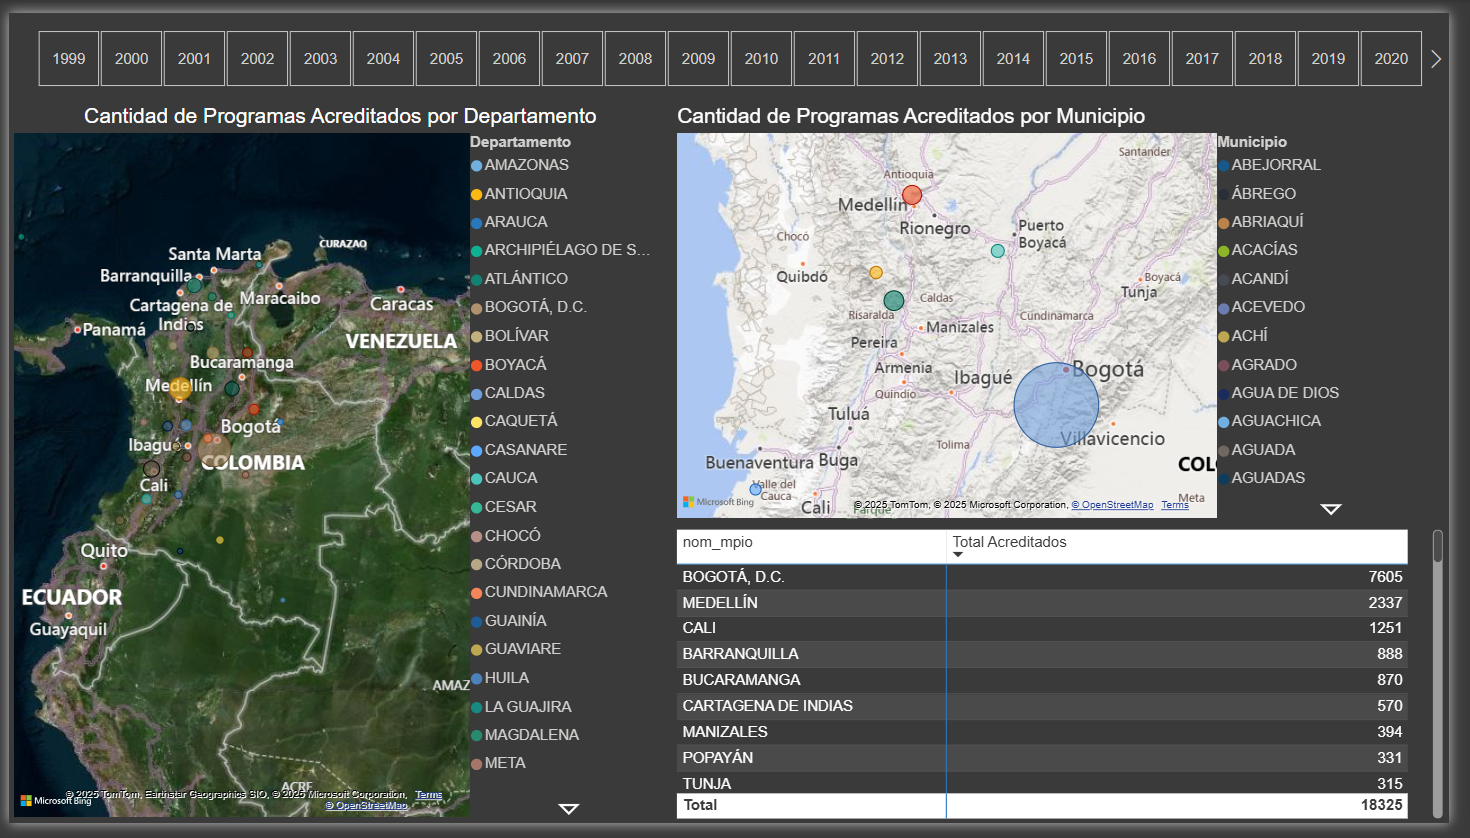

The dashboard page shown, as its layout file describes it:
{"tool":"powerbi","page":{"name":"Georreferenciación","canvas":[1280,720],"ordinal":0},"visuals":[{"type":"map","title":"Cantidad de Programas Acreditados por Departamento","fields":{"Category":["dim_departamentos.UbicaciónDepartamento"],"Y":["Avg(dim_departamentos.latitud)"],"X":["Avg(dim_departamentos.longitud)"],"Size":["FAC_programas.Total Acreditados"],"Series":["dim_departamentos.nom_dpto"]},"box":[0,81.1,588.9,638.9],"z":0},{"type":"slicer","fields":{"Values":["DIM_Fechas.Annio"]},"box":[0,9.2,1279.6,63.3],"z":1000},{"type":"map","title":"Cantidad de Programas Acreditados por Municipio","fields":{"Category":["dim_municipios.UbicaciónMunicipio"],"Size":["FAC_programas.Total Acreditados"],"Y":["Avg(dim_municipios.latitud)"],"X":["Avg(dim_municipios.longitud)"],"Series":["dim_municipios.nom_mpio"]},"box":[589,81,691,373],"z":2000},{"type":"pivotTable","fields":{"Rows":["dim_municipios.nom_mpio"],"Values":["FAC_programas.Total Acreditados"]},"box":[588.8,454.1,690.8,266.3],"z":3000}]}

Visuals, with their boxes in screenshot pixels (x1, y1, x2, y2), scaled from the page's 1280x720 canvas onto the 1470x838 screenshot:
"Cantidad de Programas Acreditados por Departamento" map: rect(0, 94, 676, 837)
slicer - DIM_Fechas.Annio: rect(0, 11, 1469, 84)
"Cantidad de Programas Acreditados por Municipio" map: rect(676, 94, 1469, 528)
pivotTable - dim_municipios.nom_mpio x FAC_programas.Total Acreditados: rect(676, 529, 1469, 837)
